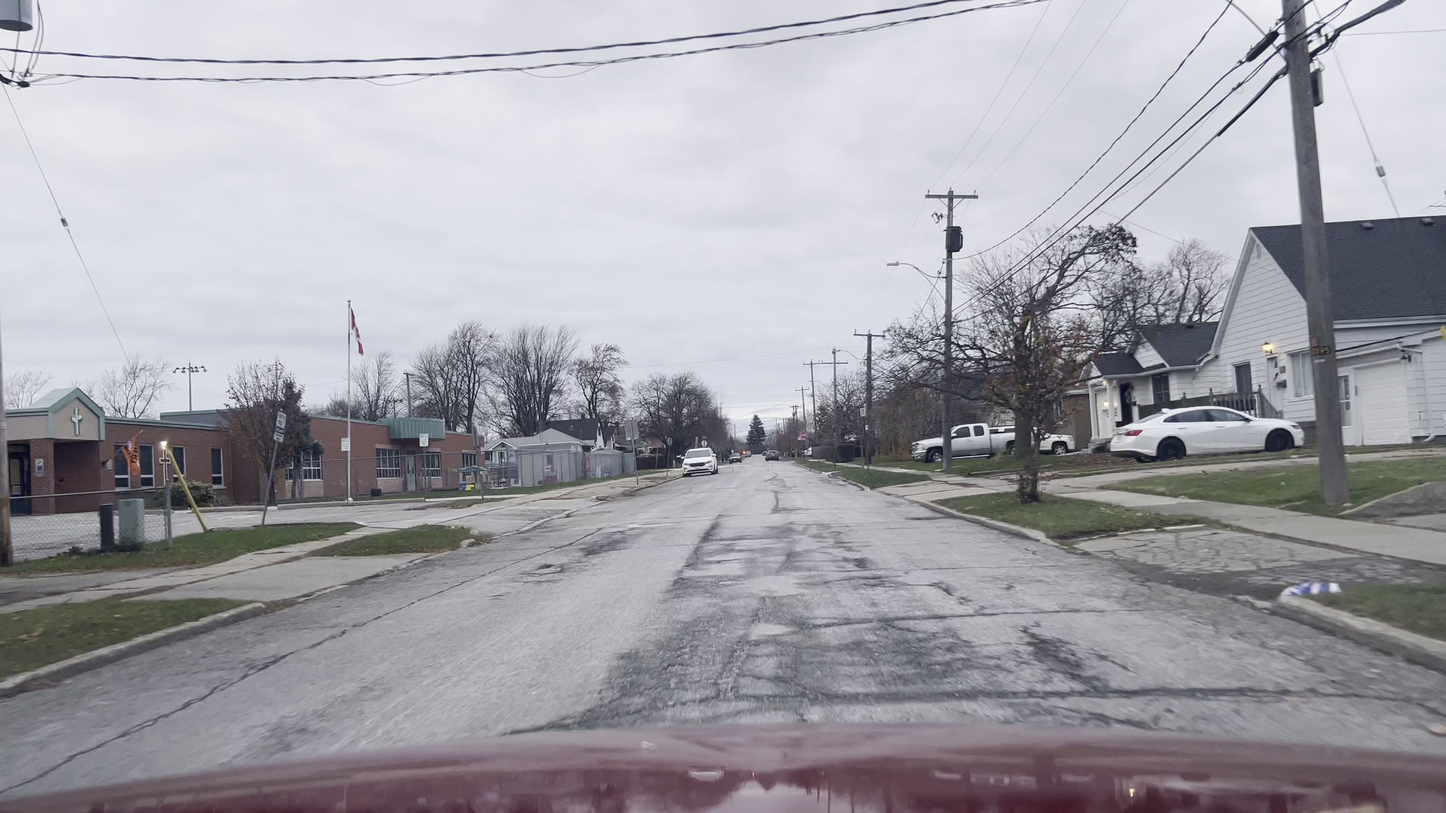cracks: (672, 615, 1092, 704), (1100, 673, 1295, 707), (584, 661, 660, 726), (97, 707, 179, 749), (202, 660, 269, 698), (30, 749, 75, 791), (847, 554, 887, 595), (531, 550, 573, 580), (921, 573, 956, 596)
